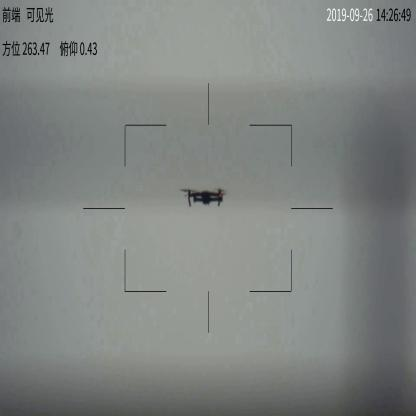uav: (182, 184, 229, 210)
